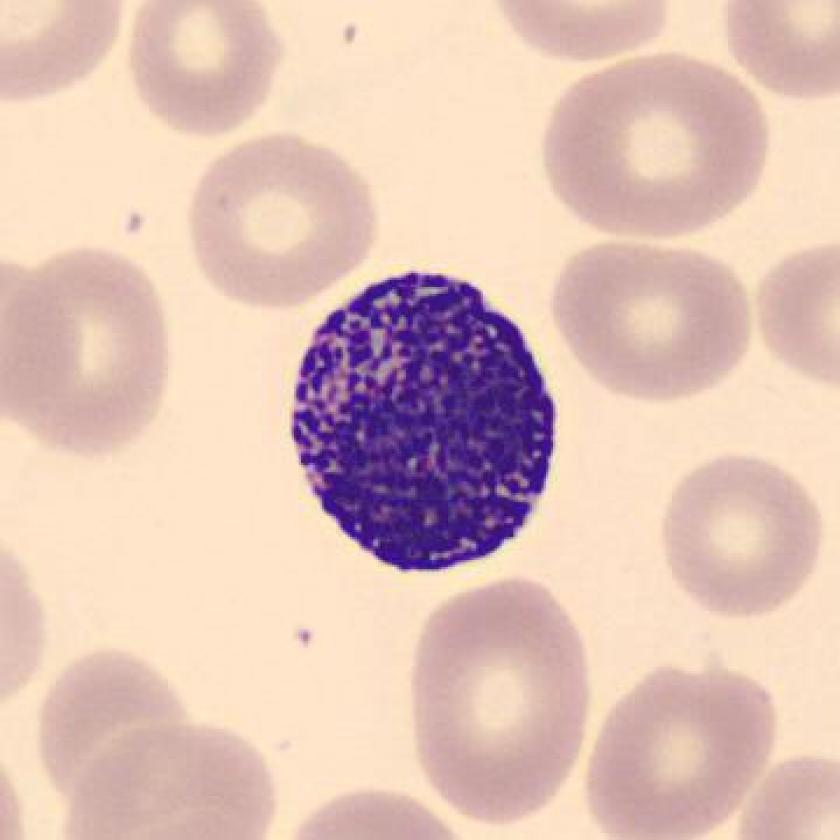basophil: (281, 265, 561, 577)
